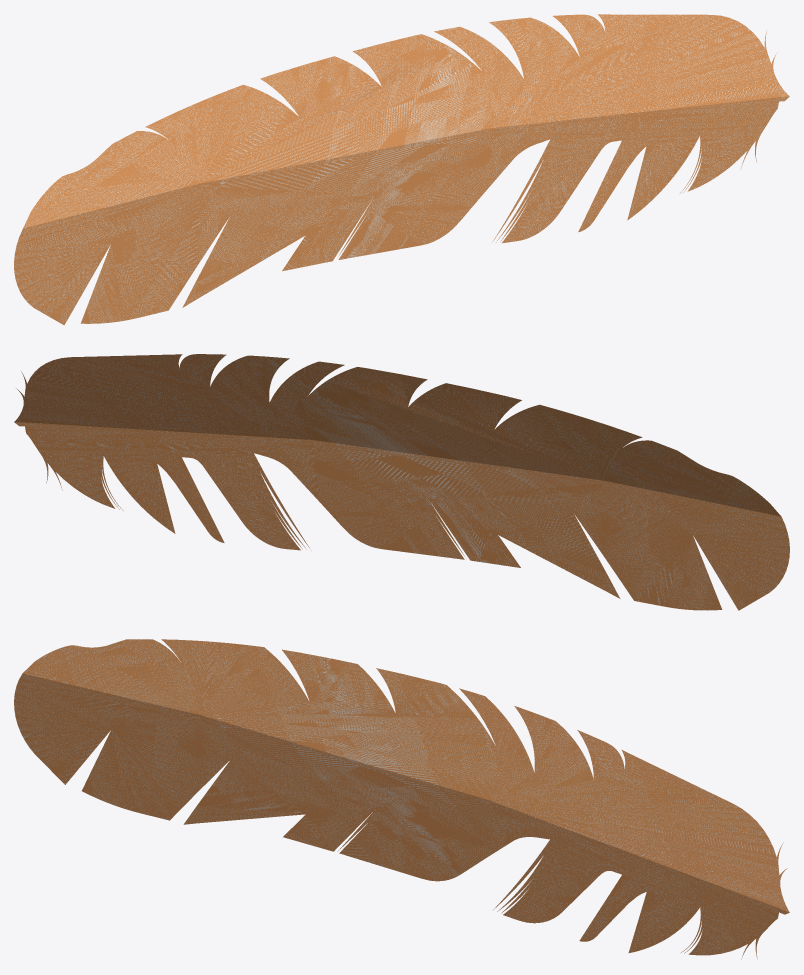
The model's file is original-39.obj.
3 renders of one model, top to bottom at view 1: azimuth 30°, elevation 25°; view 2: azimuth 150°, elevation 25°; view 3: azimuth 330°, elevation 25°, orthographic. The views are drawn at different scales.
Visible parts, largest first — view 1: #ID269; view 2: #ID269; view 3: #ID269.
Boxes of the visible parts, x1=… form: #ID269: x1=14, y1=14, x2=789, y2=325; #ID269: x1=14, y1=354, x2=789, y2=610; #ID269: x1=14, y1=639, x2=789, y2=959.
Bounding box in the file's own units: 0.7616 × 0.2122 × 0.0514.
